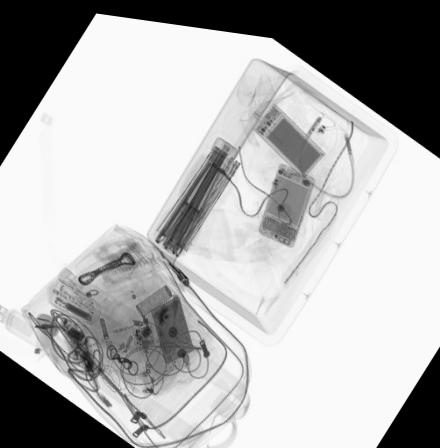Powerbank: (252, 95, 327, 170), (148, 287, 194, 360)
